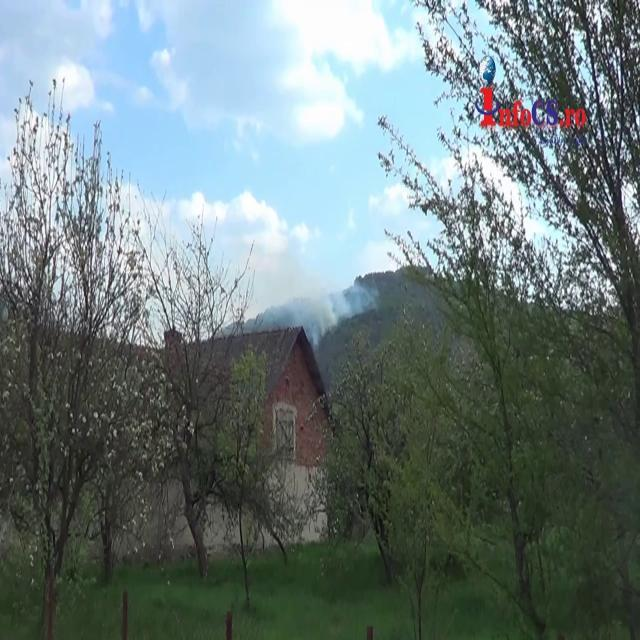Smoke: (283, 254, 367, 342)
